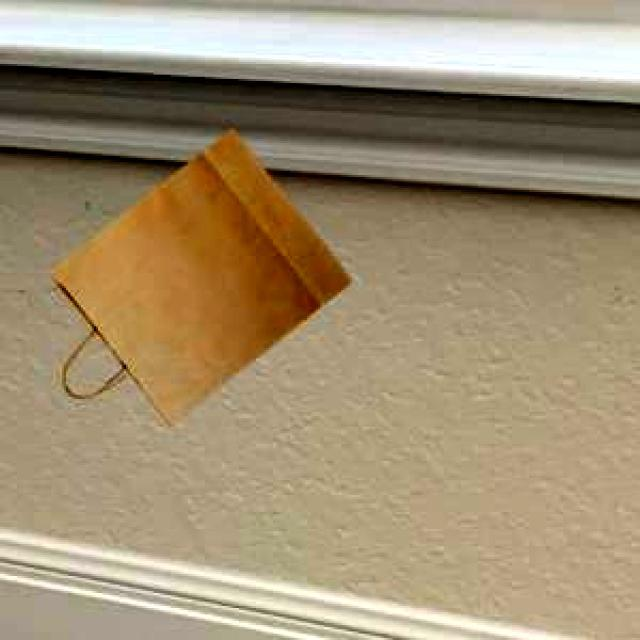Paper_Bag: (50, 126, 347, 422)
